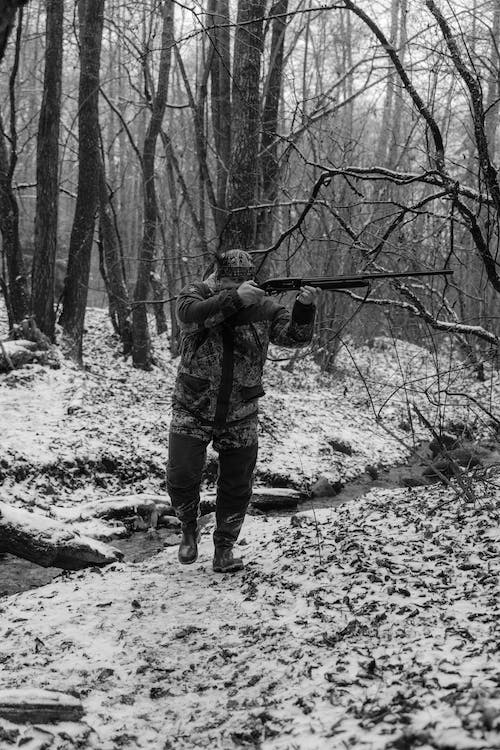gun: (252, 266, 455, 298)
